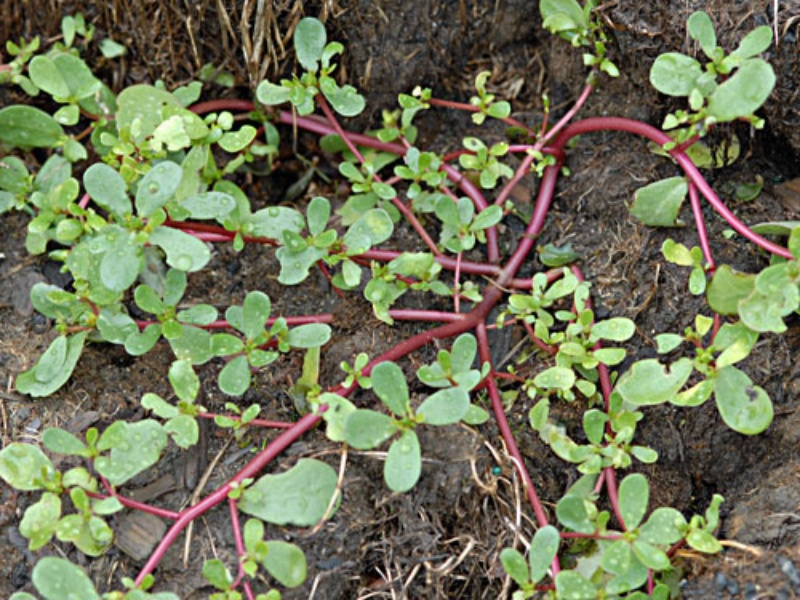weed: (492, 249, 624, 390), (24, 427, 170, 554), (653, 306, 774, 434), (87, 169, 205, 287), (261, 198, 393, 302), (347, 370, 466, 484), (655, 23, 776, 135), (558, 487, 684, 594), (399, 153, 499, 268), (217, 300, 327, 391), (263, 32, 365, 124), (552, 409, 642, 482), (117, 90, 203, 163)
